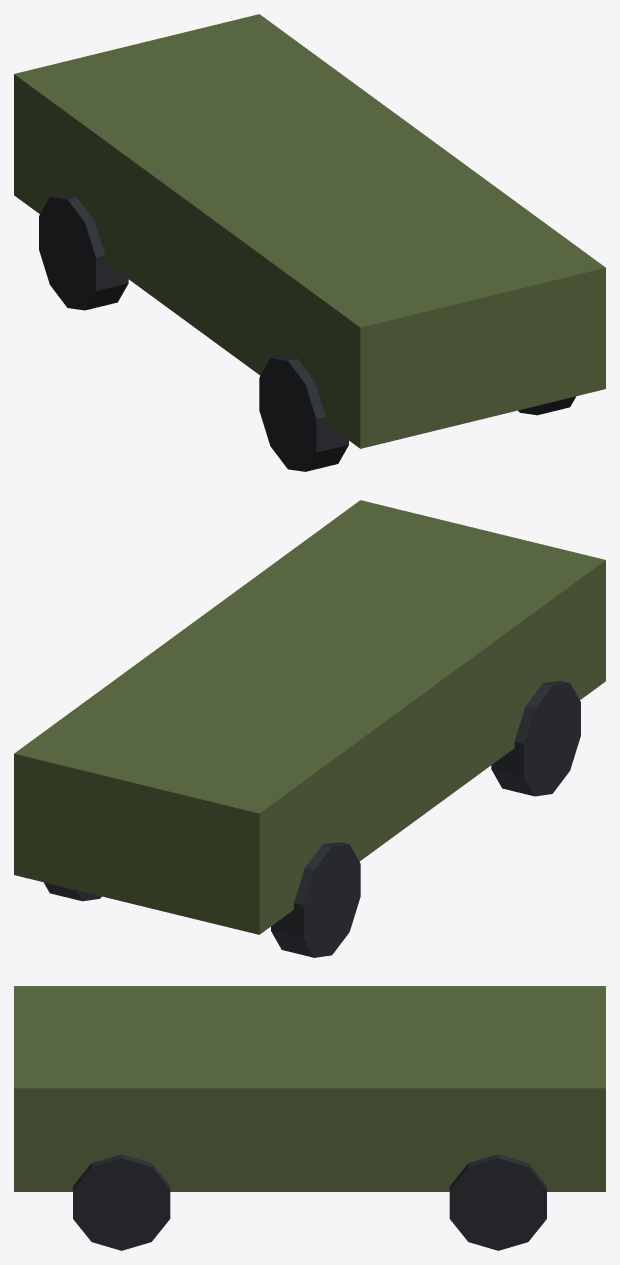
File: sedan_test.glb
3 views of the same model, one above another, from view 1: azimuth 30°, elevation 25°; view 2: azimuth 150°, elevation 25°; view 3: azimuth 270°, elevation 25° (orthographic). The views are drawn at different scales.
Visible parts, largest first — view 1: Sedan-vehicle, WheelFL-wheel, WheelRL-wheel; view 2: Sedan-vehicle, WheelRL-wheel, WheelFL-wheel; view 3: Sedan-vehicle, WheelFR-wheel, WheelRR-wheel.
Boxes of the visible parts, x1,y1,x2,y2 form: Sedan-vehicle: (14, 14, 605, 448); WheelFL-wheel: (259, 356, 348, 471); WheelRL-wheel: (39, 194, 128, 310); Sedan-vehicle: (14, 500, 605, 934); WheelRL-wheel: (271, 842, 360, 957); WheelFL-wheel: (491, 680, 580, 796); Sedan-vehicle: (14, 986, 605, 1191); WheelFR-wheel: (73, 1154, 170, 1250); WheelRR-wheel: (449, 1154, 546, 1250).
Size of what is drawn, in the model's own units: 1.94 by 1.3 by 4.4.
